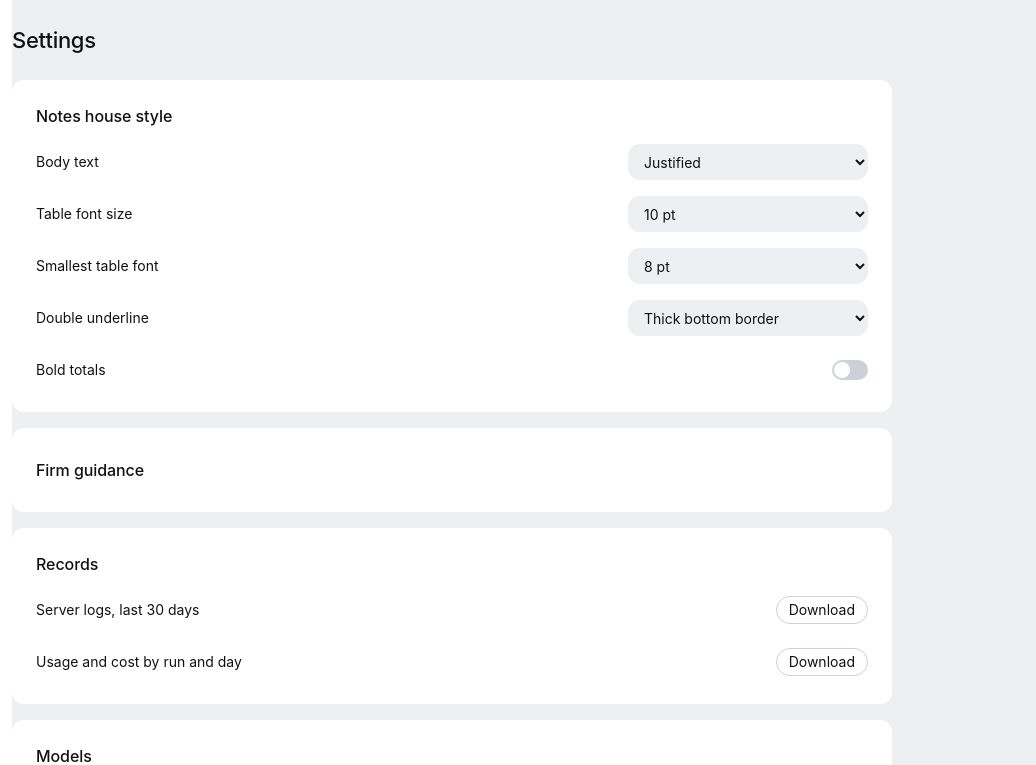
Settings page › shows the server's sentence when a download fails
Click the button with aria-label "Download usage" at (822, 662), box [776,648,868,676]
(page scrolled)
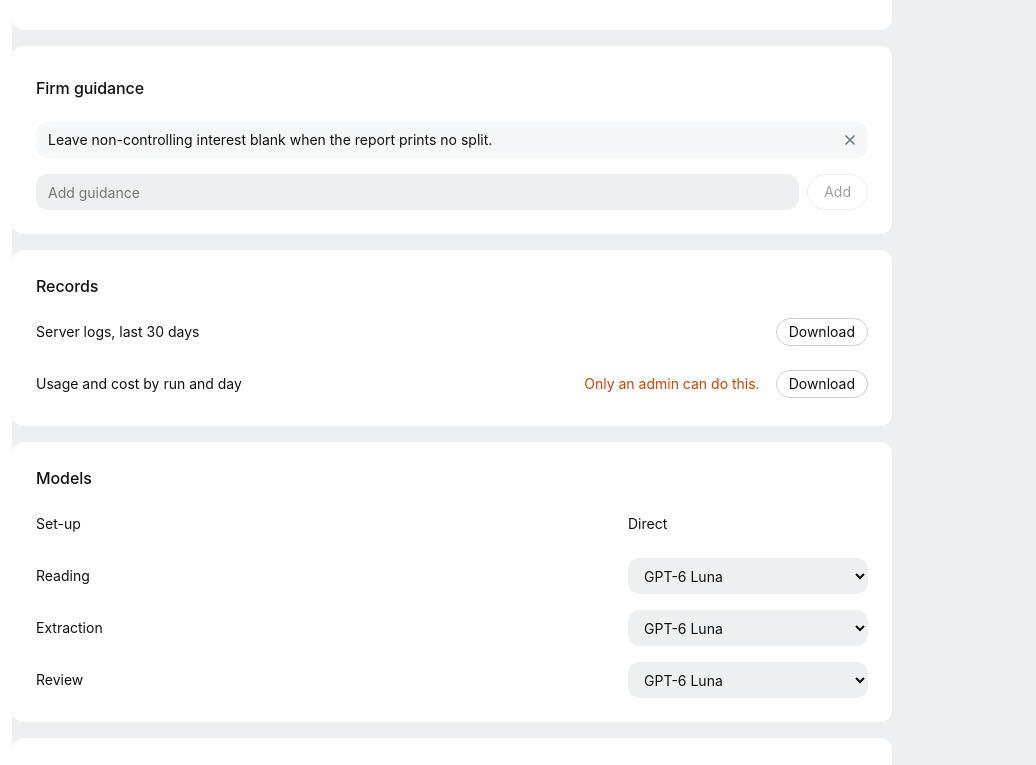
Check: the message reads "Only an admin can do this.", box [584,375,760,392]
